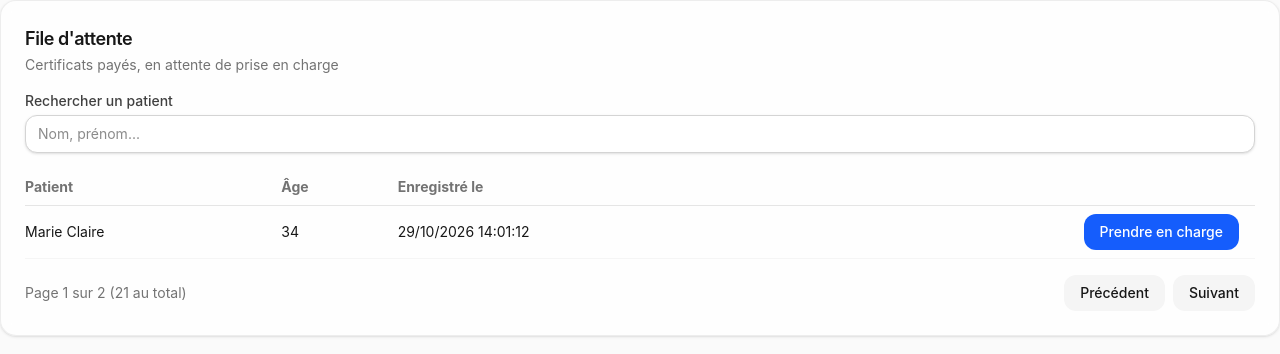
DoctorQueuePage › shows pagination controls and fetches the next page when the backlog exceeds one page
Check: the text "Page 1 sur 2 (21 au total)" is shown, box [25,283,187,303]
Check: the button "Précédent" is disabled, box [1064,275,1165,311]
What coordinates should you click on to do the following:
click the button "Suivant"
I would click on:
 (1214, 293)
Its box is [1173,275,1255,311].
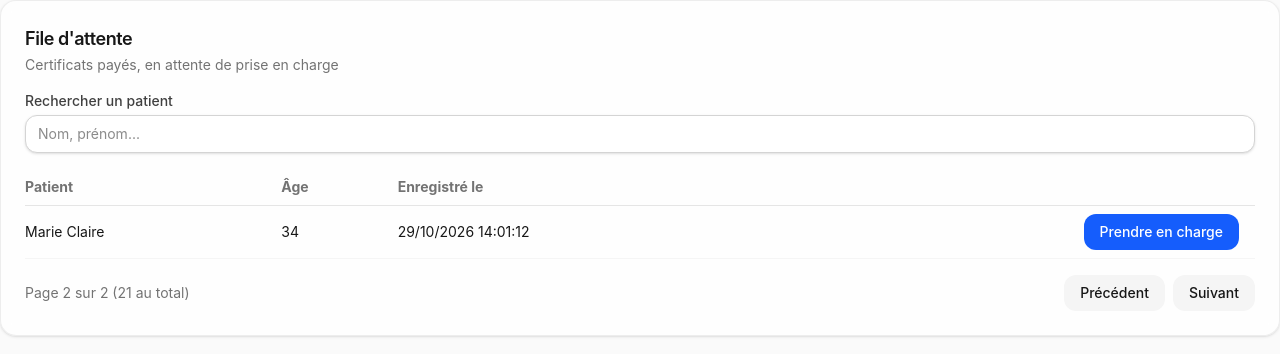
Check: the text "Page 2 sur 2 (21 au total)" is shown, box [25,283,190,303]
What coordinates should you click on to do the following:
click the button "Précédent"
I would click on:
 (1115, 293)
Its box is [1064,275,1165,311].
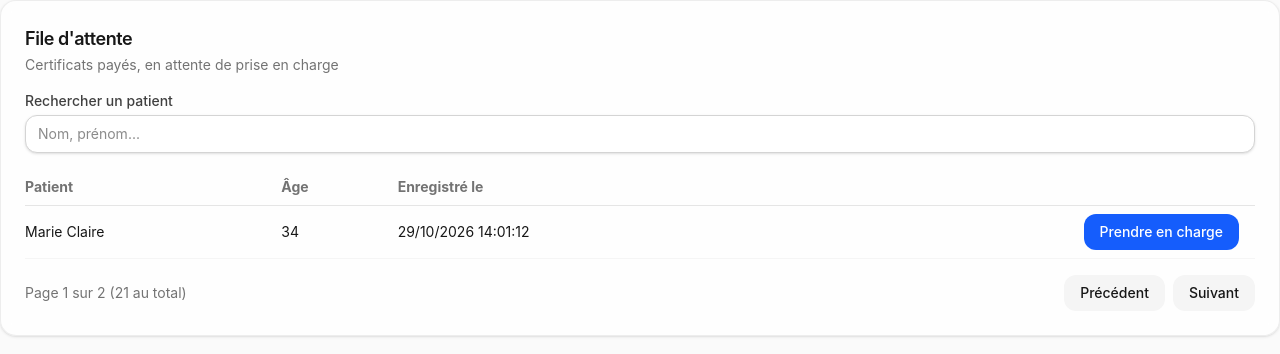
Check: the text "Page 1 sur 2 (21 au total)" is shown, box [25,283,187,303]
